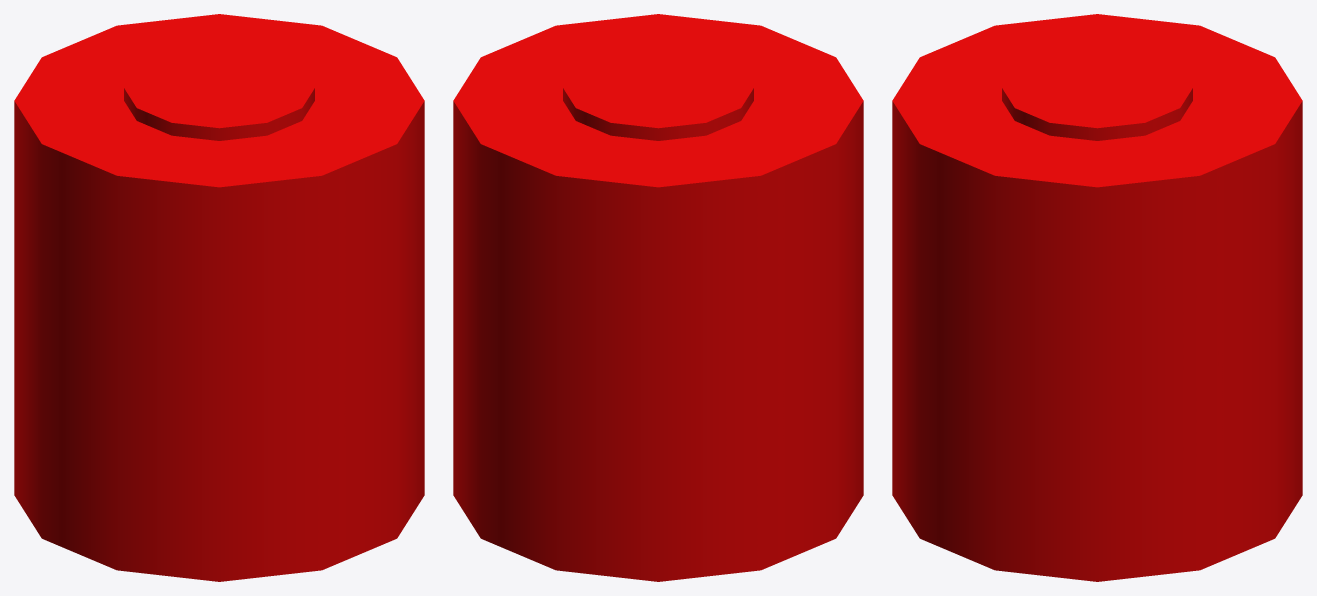
3 renders of one model, left to right at view 1: azimuth 30°, elevation 25°; view 2: azimuth 150°, elevation 25°; view 3: azimuth 270°, elevation 25°, orthographic.
Visible parts, largest first — view 1: 86, 86_1; view 2: 86, 86_1; view 3: 86, 86_1.
Boxes of the visible parts, x1,y1,x2,y2 form: 86: [14, 88, 424, 581]; 86_1: [14, 14, 424, 187]; 86: [453, 88, 863, 581]; 86_1: [453, 14, 863, 187]; 86: [892, 88, 1302, 581]; 86_1: [892, 14, 1302, 187].
Bounding box in the file's own units: 1.47 × 1.61 × 1.47.
